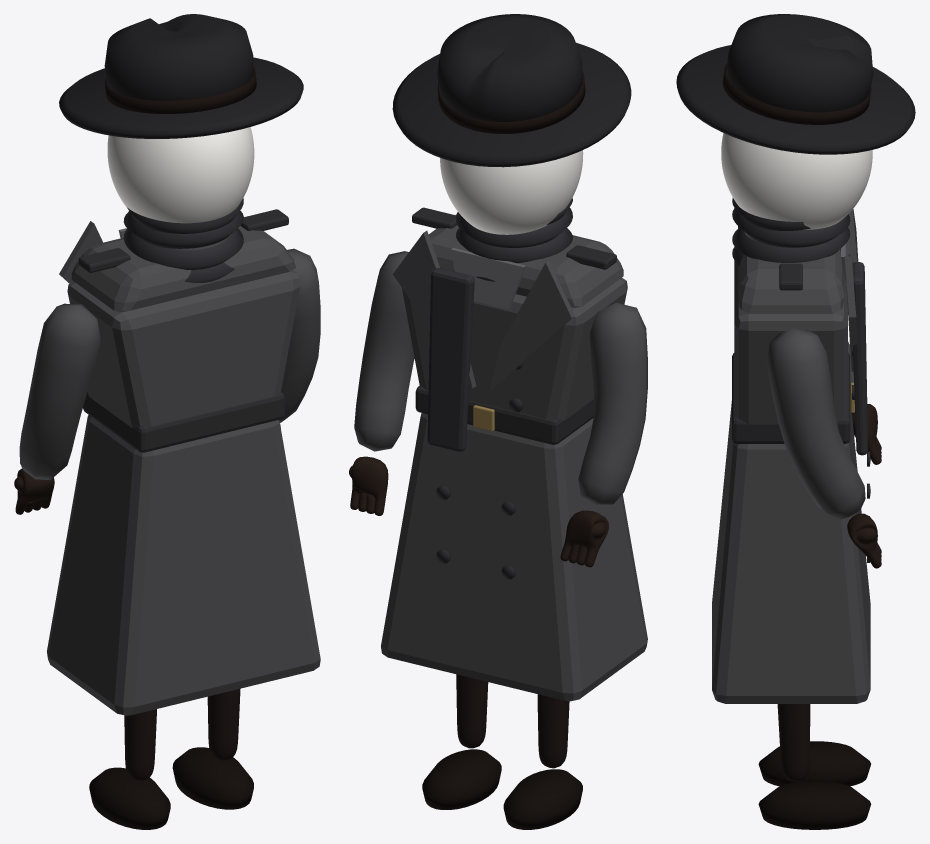
The model's file is mascara_semrosto.glb.
3 renders of one model, left to right at view 1: azimuth 30°, elevation 25°; view 2: azimuth 150°, elevation 25°; view 3: azimuth 270°, elevation 25°, orthographic. The views are drawn at different scales.
Visible parts, largest first — view 1: sobretudo_saia, sobretudo_peito, mascara, copa, manga, aba, ombros, cinto, manga.001, sapato.001, sapato, cachecol.001 (+10 smaller); view 2: sobretudo_saia, copa, aba, sobretudo_peito, manga, mascara, manga.001, cachecol_ponta, ombros, gola_trench, sapato, sapato.001 (+12 smaller); view 3: sobretudo_saia, copa, manga.001, aba, mascara, sobretudo_peito, ombros, sapato.001, sapato, cachecol_ponta, perna.001, fita (+8 smaller).
Boxes of the visible parts, x1,y1,x2,y2 form: sobretudo_saia: (47, 415, 320, 715); sobretudo_peito: (67, 270, 299, 428); mascara: (107, 127, 254, 223); copa: (104, 14, 253, 100); manga: (19, 303, 100, 480); aba: (59, 57, 303, 138); ombros: (71, 225, 295, 312); cinto: (83, 392, 284, 452); manga.001: (279, 248, 320, 422); sapato.001: (172, 747, 253, 809); sapato: (89, 767, 170, 829); cachecol.001: (123, 228, 243, 270); sobretudo_saia: (381, 413, 647, 701); copa: (437, 14, 582, 121); aba: (392, 42, 631, 167); sobretudo_peito: (402, 278, 627, 420); manga: (578, 302, 647, 505); mascara: (440, 150, 583, 234); manga.001: (354, 251, 414, 451); cachecol_ponta: (427, 268, 474, 451); ombros: (428, 214, 623, 307); gola_trench: (489, 260, 574, 392); sapato: (503, 769, 582, 829); sapato.001: (422, 749, 501, 809); sobretudo_saia: (712, 401, 870, 703); copa: (726, 14, 873, 112); manga.001: (766, 328, 865, 520); aba: (676, 45, 915, 154); mascara: (721, 133, 872, 229); sobretudo_peito: (734, 260, 847, 424); ombros: (738, 226, 844, 313); sapato.001: (758, 781, 871, 829); sapato: (758, 741, 870, 786); cachecol_ponta: (852, 262, 867, 455); perna.001: (777, 704, 810, 781); fita: (722, 63, 871, 124).
Bounding box in the file's own units: 0.6885 × 1.79 × 0.505.
Materials: 11 (1 with a texture image).
